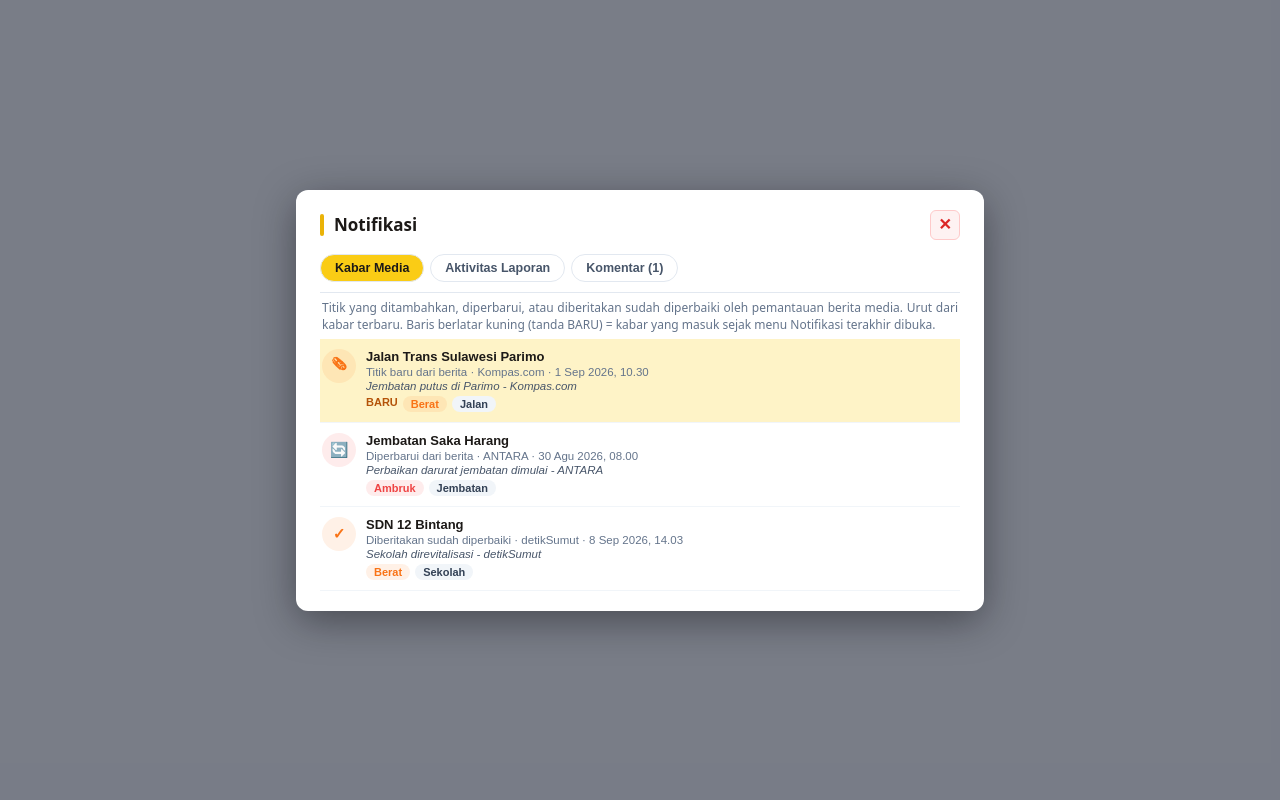
Test case: NotifikasiModal: 3 tab (Kabar Media / Aktivitas Laporan / Komentar) › tab Aktivitas Laporan: laporan warga + verifikasi otoritas, TANPA titik seed media
Click the button "Aktivitas Laporan" at (498, 268), box x1=430 y1=254 x2=565 y2=282
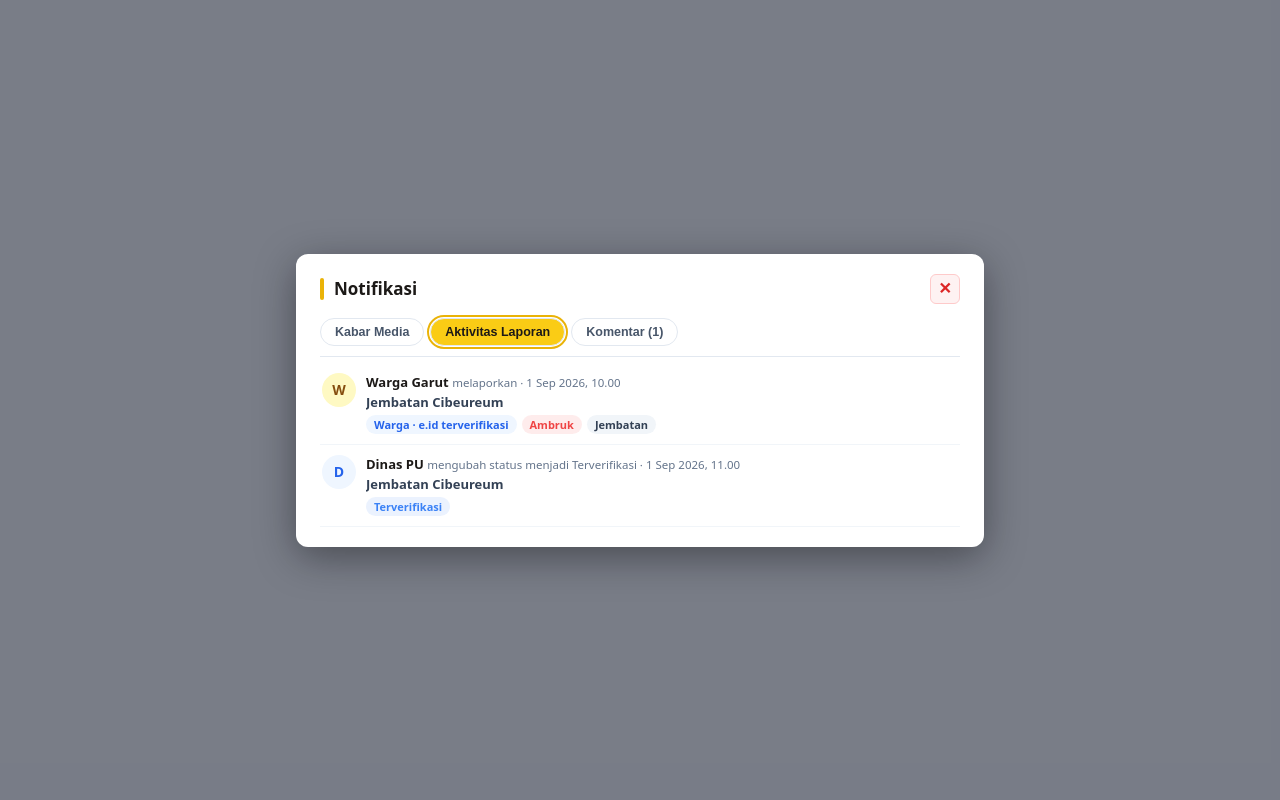
Now the text "Warga Garut" is shown, box x1=366 y1=372 x2=449 y2=390
Now the text "Warga · e.id terverifikasi" is shown, box x1=366 y1=414 x2=516 y2=434
Now the text "Dinas PU" is shown, box x1=366 y1=454 x2=424 y2=472
